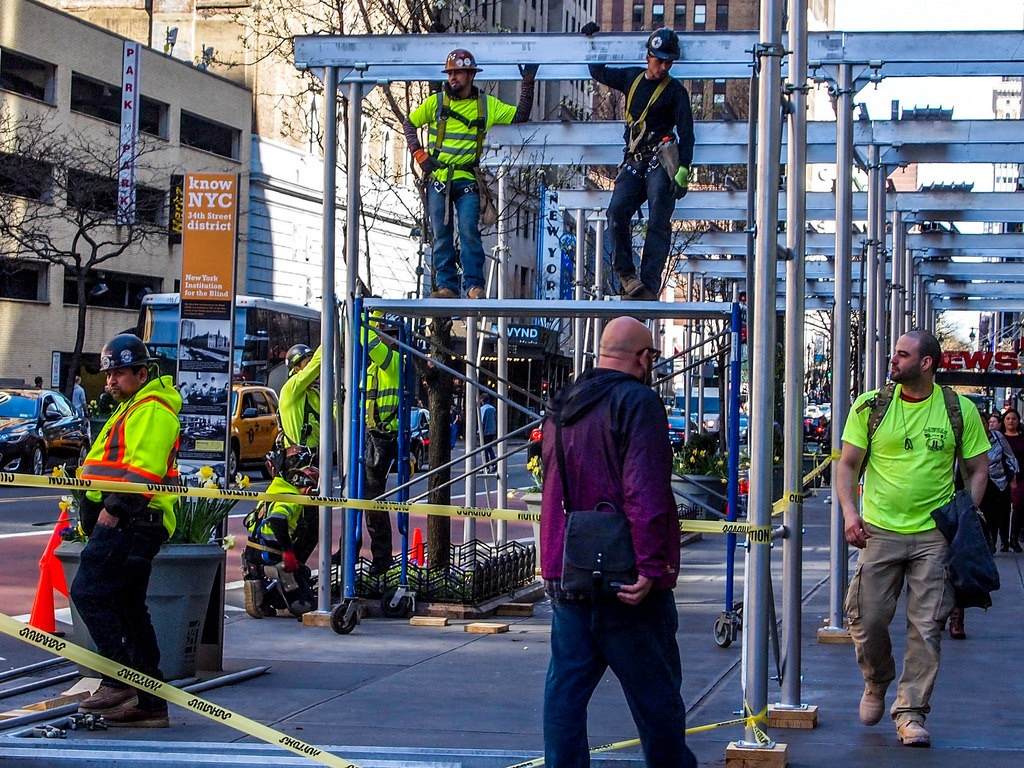blue: (99, 333, 153, 399), (644, 26, 679, 76), (283, 342, 316, 376)
none: (594, 315, 656, 379), (887, 327, 941, 387), (1002, 408, 1017, 431), (986, 414, 1001, 431), (33, 374, 44, 387), (72, 373, 81, 384)
red: (446, 44, 476, 88), (373, 313, 402, 350), (294, 462, 321, 499)
